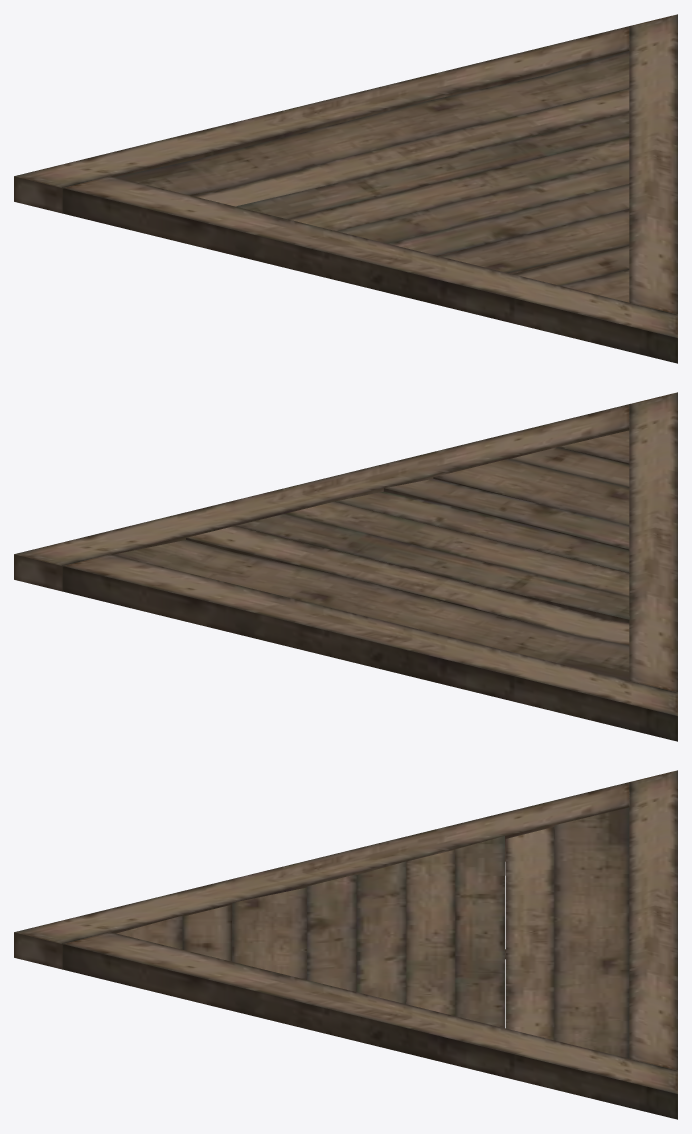
File: floor.triangle.wood.glb
3 views of the same model, one above another, from view 1: azimuth 30°, elevation 25°; view 2: azimuth 150°, elevation 25°; view 3: azimuth 270°, elevation 25° (orthographic).
Visible parts, largest first — view 1: m_boat_floor_triangle_LOD0; view 2: m_boat_floor_triangle_LOD0; view 3: m_boat_floor_triangle_LOD0.
Part boxes in pixels (x1,y1,x2,y2): m_boat_floor_triangle_LOD0: [14, 14, 677, 363]; m_boat_floor_triangle_LOD0: [14, 392, 677, 741]; m_boat_floor_triangle_LOD0: [14, 770, 677, 1119].
Size of the model in its own units: 3 by 0.111 by 2.6.
1 material, 1 textured.
